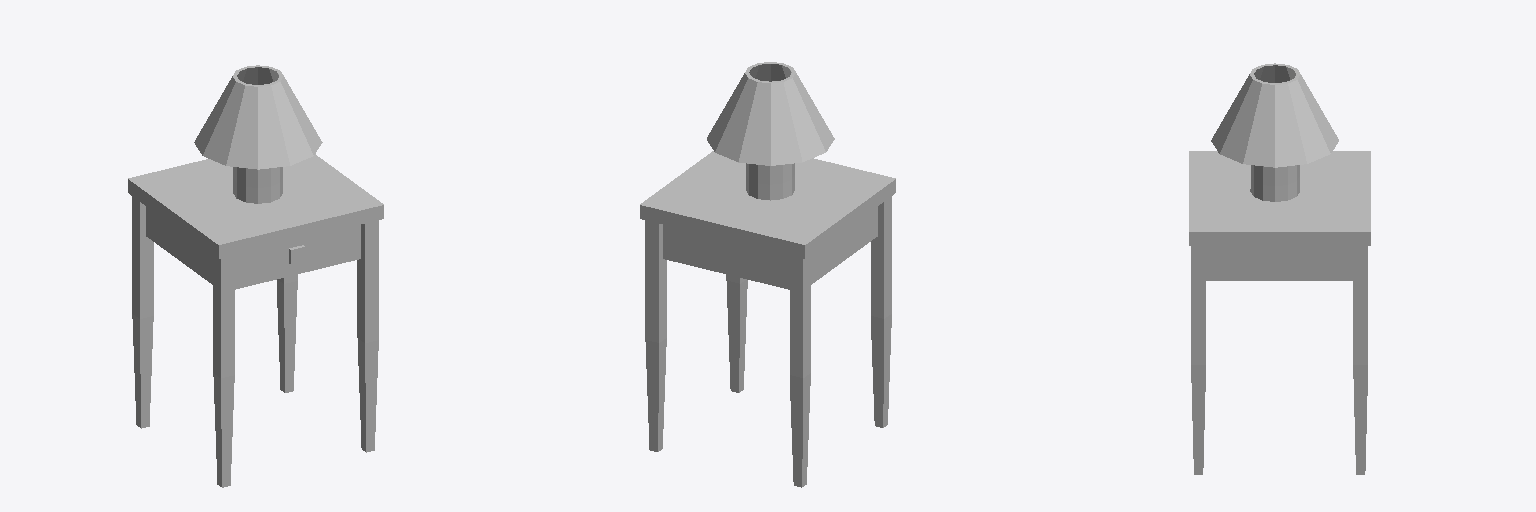
File: EverythingLibrary_Furnishings_TambleWithLamp.obj
3 renders of one model, left to right at view 1: azimuth 30°, elevation 25°; view 2: azimuth 150°, elevation 25°; view 3: azimuth 270°, elevation 25°, orthographic.
Visible parts, largest first — view 1: base.014_Mesh.1271; view 2: base.014_Mesh.1271; view 3: base.014_Mesh.1271.
Boxes of the visible parts, x1=… form: base.014_Mesh.1271: x1=128, y1=65, x2=383, y2=487; base.014_Mesh.1271: x1=640, y1=62, x2=895, y2=487; base.014_Mesh.1271: x1=1189, y1=63, x2=1370, y2=474.
Size of the model in its own units: 0.4981 by 1.04 by 0.4739.